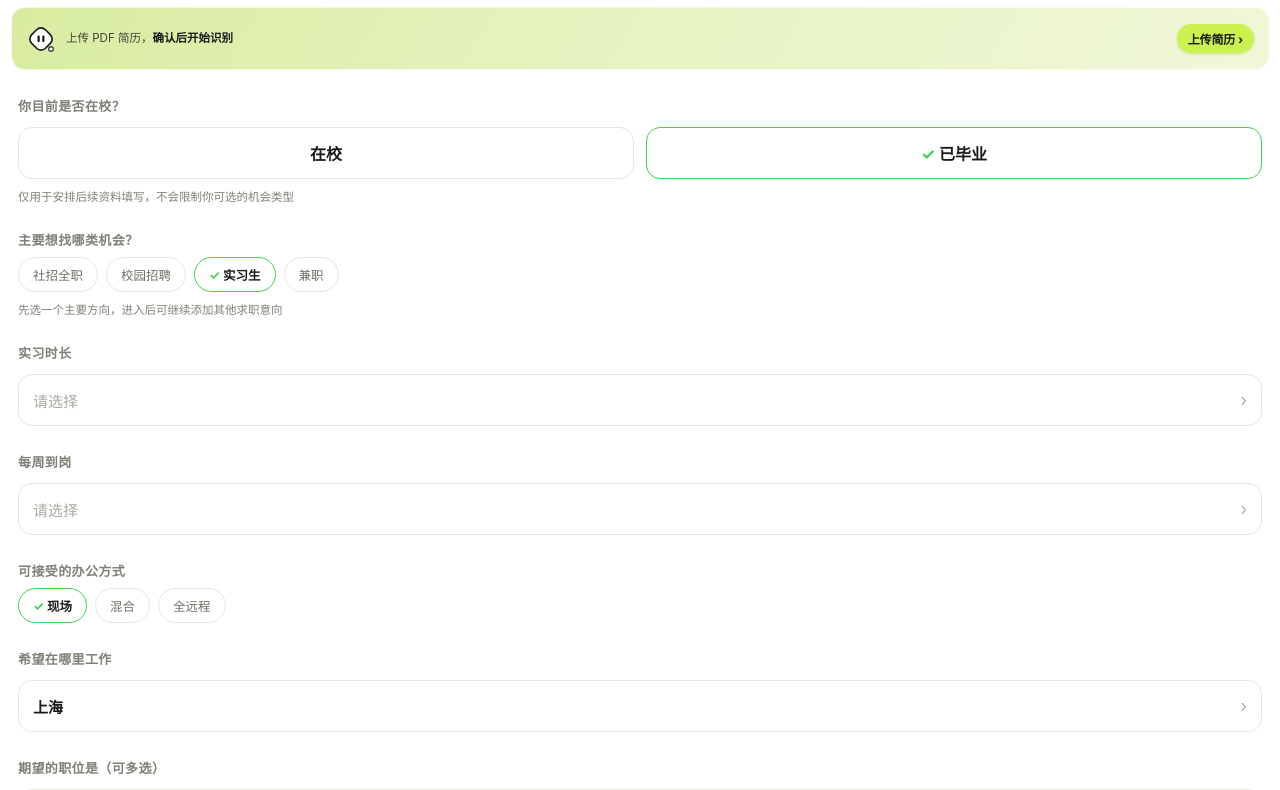
学生分流 实习数值数字抽屉（picker 统一 Task 2） › 缺值两行显示请选择；打开落首档、取消零写入，行仍是未填写
(page scrolled)
Expected: the button with aria-label "每周到岗" shows "请选择", [18, 483, 1262, 535]
Click the button with aria-label "实习时长": {"x": 56, "y": 401} [18, 374, 1262, 426]
(page scrolled)
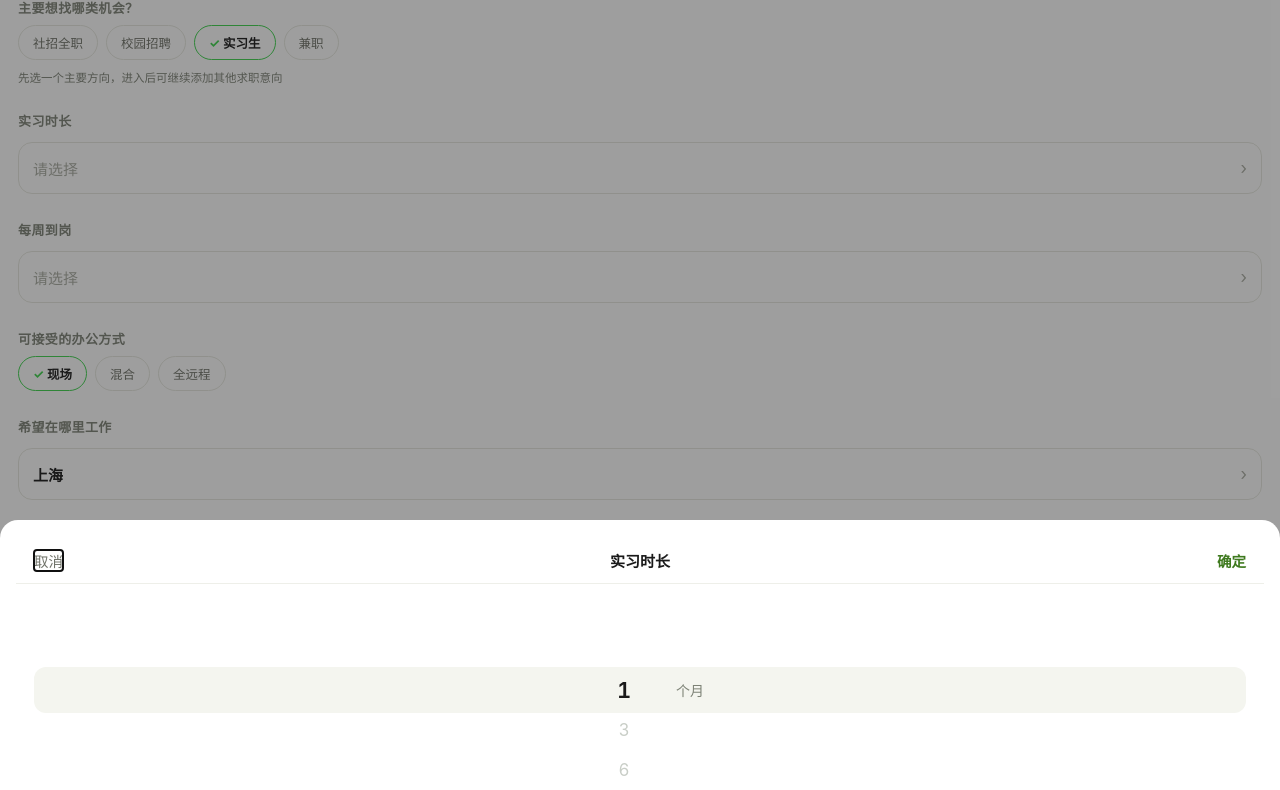
Click the button "取消": {"x": 48, "y": 561} [34, 550, 63, 571]
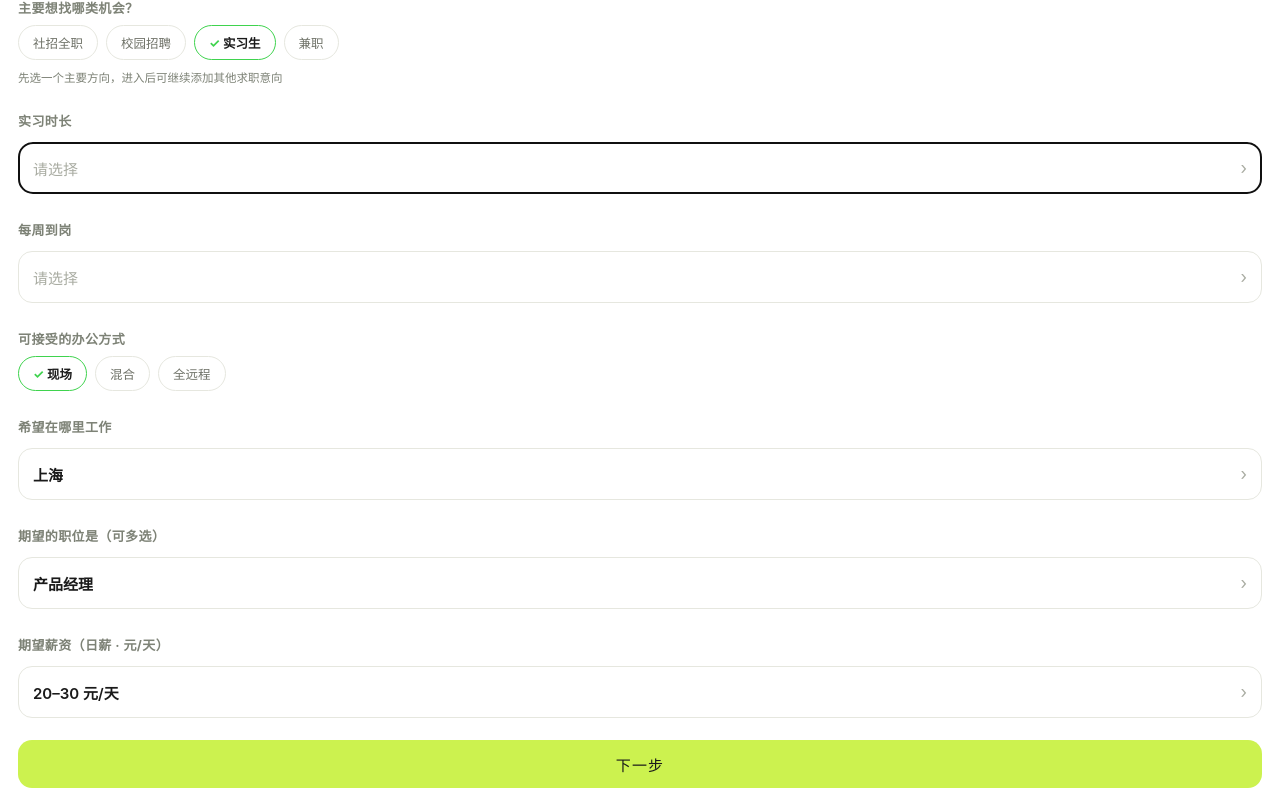
Expected: the button with aria-label "实习时长" shows "请选择", [18, 142, 1262, 194]
Result: the list "1 3 6" is gone
